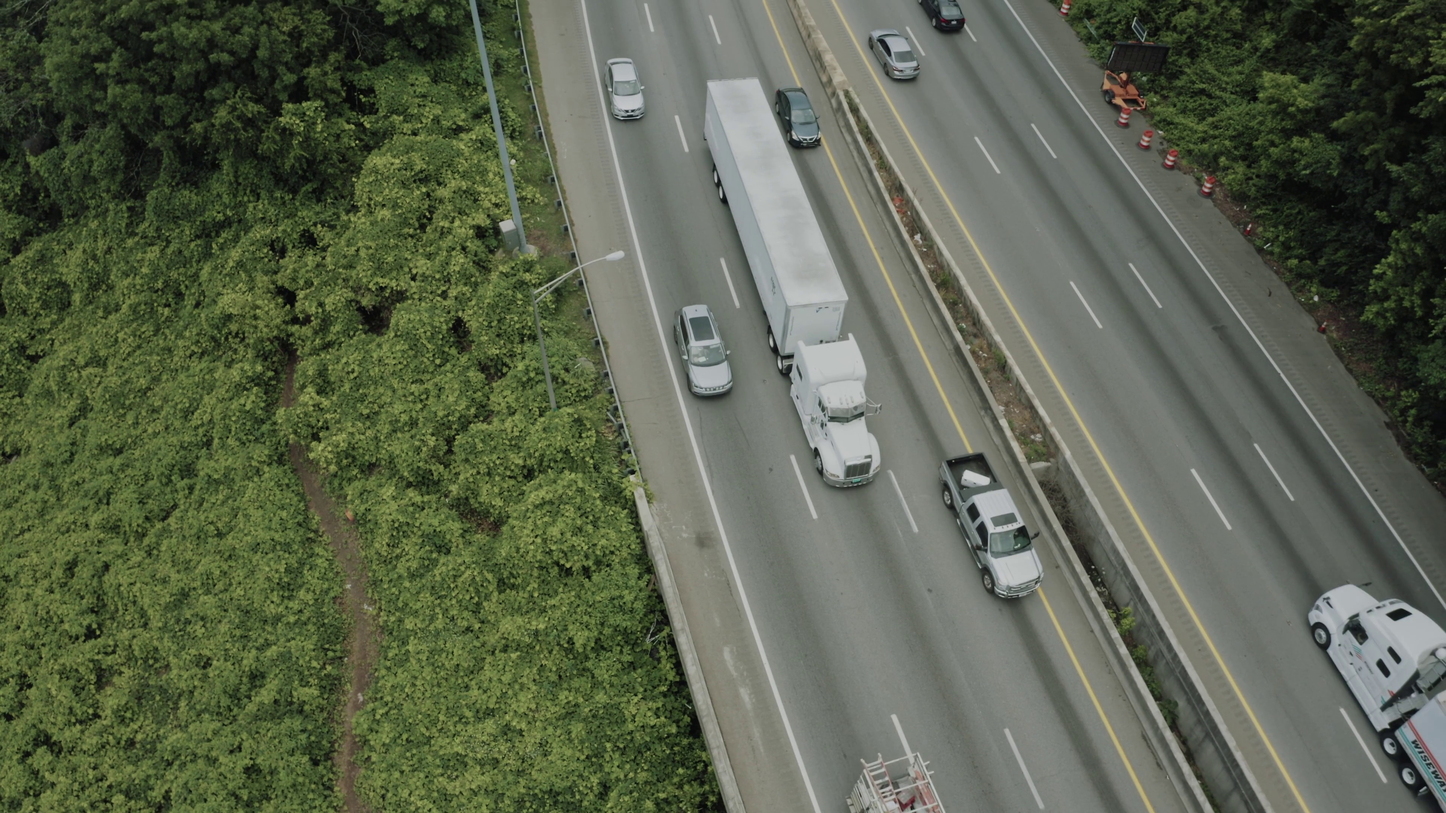Vehicle: (1305, 584, 1446, 756), (775, 328, 891, 491), (935, 450, 1044, 599), (842, 746, 948, 813), (667, 304, 733, 398), (775, 87, 822, 149), (868, 28, 921, 80), (604, 58, 646, 123), (917, 0, 966, 32), (1317, 321, 1327, 334), (1200, 181, 1205, 196)
